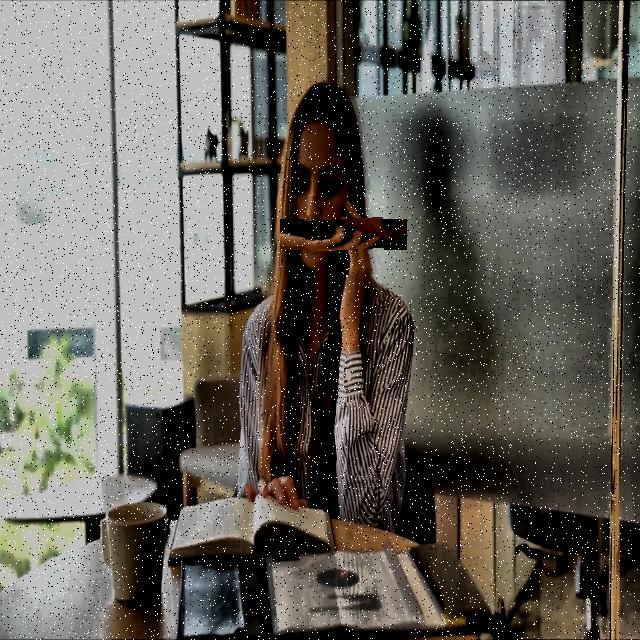Phone: (303, 194, 384, 276)
